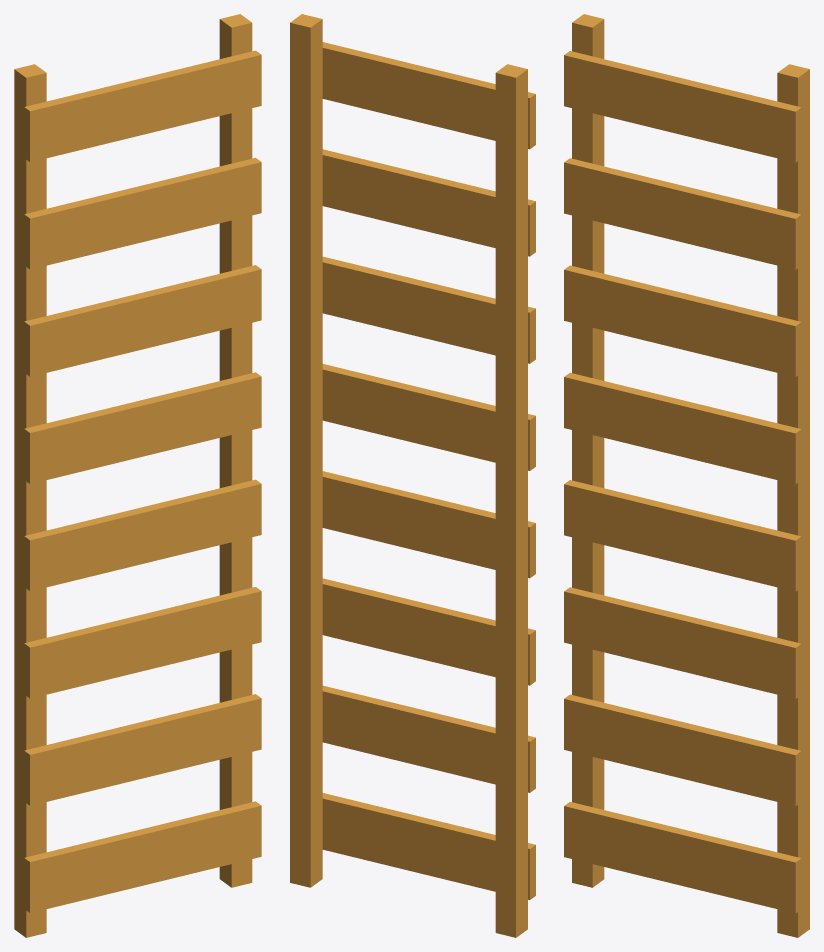
The model's file is egypt-egypt-ladder.glb.
3 views of the same model, side by side, from view 1: azimuth 30°, elevation 25°; view 2: azimuth 150°, elevation 25°; view 3: azimuth 330°, elevation 25° (orthographic).
Parts seen in each view (by area): view 1: egypt-ladder; view 2: egypt-ladder; view 3: egypt-ladder.
Boxes of the visible parts, bbox=[...] form: egypt-ladder: bbox=[14, 14, 261, 937]; egypt-ladder: bbox=[290, 14, 535, 937]; egypt-ladder: bbox=[564, 14, 809, 937].
Bounding box in the file's own units: 1.13 × 4 × 0.1501.
